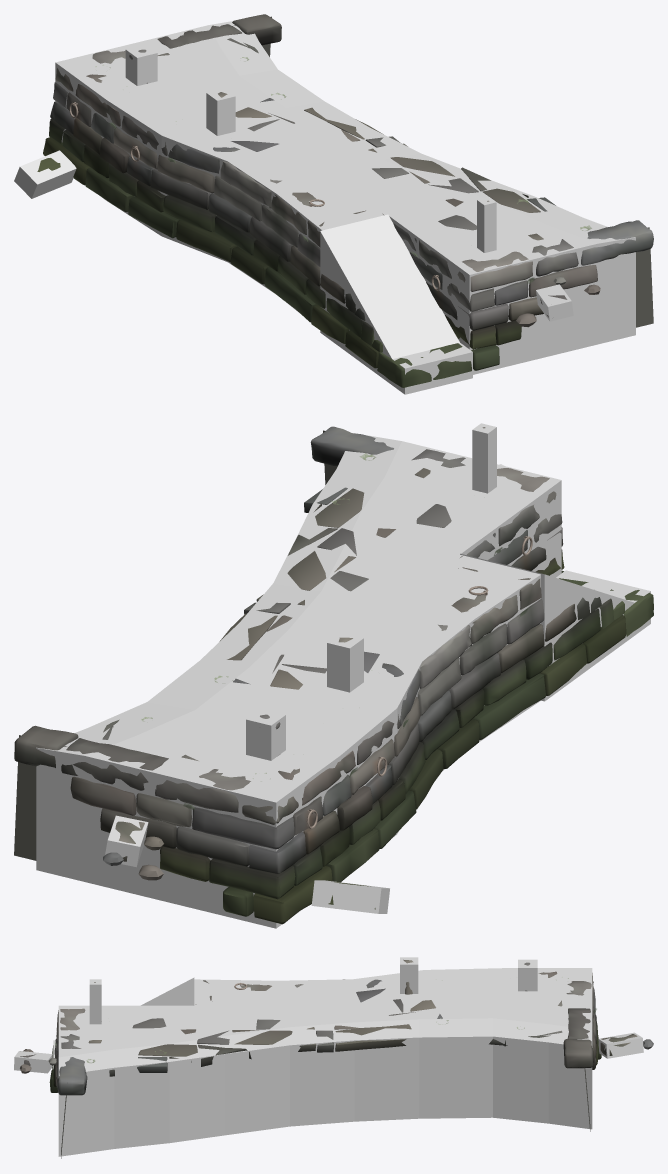
Rendered from quay.glb.
3 views of the same model, one above another, from view 1: azimuth 30°, elevation 25°; view 2: azimuth 150°, elevation 25°; view 3: azimuth 270°, elevation 25° (orthographic). The views are drawn at different scales.
Visible parts, largest first — view 1: Quay top, Wet wall, Stair slope, Coping, Wall, Flags, Wet steps, Fallen stone lake, Core, Bollard south, Bollard north, Oak post (+1 smaller); view 2: Quay top, Wet wall, Coping, Wall, Flags, Stair slope, Core, Fallen stone lake, Bollard south, Wet steps, Bollard north, Oak post (+2 smaller); view 3: Quay top, Flags, Coping, Stair slope, Fallen stone north, Bollard north, Fallen stone south, Bollard south, Oak post, Fallen stones / quay_stone, Wet wall.
Part boxes in pixels (bbox=[...]): Quay top: bbox=[55, 21, 635, 374]; Wet wall: bbox=[43, 101, 543, 370]; Stair slope: bbox=[320, 214, 472, 394]; Coping: bbox=[55, 14, 653, 291]; Wall: bbox=[53, 82, 597, 311]; Flags: bbox=[157, 38, 555, 240]; Wet steps: bbox=[345, 293, 471, 387]; Fallen stone lake: bbox=[14, 150, 76, 198]; Core: bbox=[232, 16, 653, 327]; Bollard south: bbox=[206, 88, 235, 135]; Bollard north: bbox=[125, 44, 157, 85]; Oak post: bbox=[477, 197, 496, 252]; Quay top: bbox=[36, 433, 561, 928]; Wet wall: bbox=[100, 527, 626, 924]; Coping: bbox=[14, 426, 556, 824]; Wall: bbox=[70, 514, 562, 849]; Flags: bbox=[102, 468, 451, 760]; Stair slope: bbox=[460, 553, 650, 701]; Core: bbox=[14, 430, 337, 860]; Fallen stone lake: bbox=[311, 880, 389, 913]; Bollard south: bbox=[327, 632, 363, 692]; Wet steps: bbox=[559, 578, 653, 636]; Bollard north: bbox=[246, 709, 285, 760]; Oak post: bbox=[472, 423, 496, 493]; Quay top: bbox=[58, 968, 592, 1156]; Flags: bbox=[88, 988, 562, 1076]; Coping: bbox=[56, 971, 593, 1095]; Stair slope: bbox=[53, 977, 194, 1069]; Fallen stone north: bbox=[598, 1032, 643, 1058]; Bollard north: bbox=[518, 959, 537, 991]; Fallen stone south: bbox=[14, 1051, 52, 1073]; Bollard south: bbox=[400, 957, 418, 993]; Oak post: bbox=[89, 979, 101, 1024]; Fallen stones / quay_stone: bbox=[20, 1034, 653, 1073]; Wet wall: bbox=[49, 1015, 601, 1092].
Bounding box in the file's own units: 7.06 × 2.95 × 13.85.
